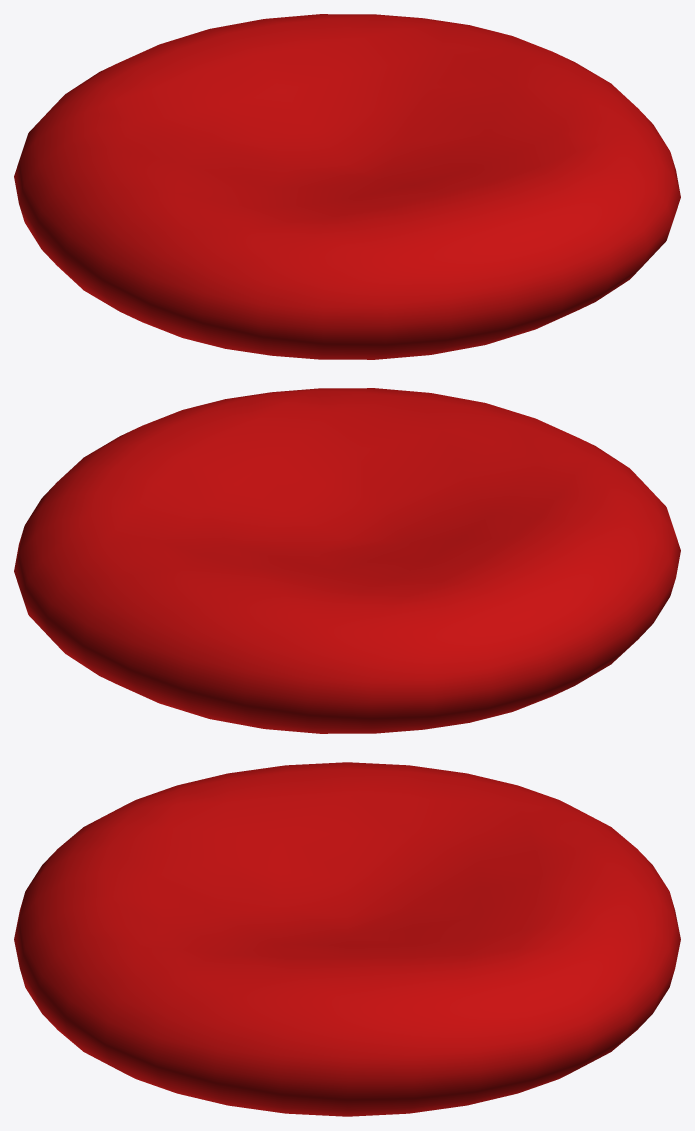
File: redbloodcell.fbx
3 renders of one model, top to bottom at view 1: azimuth 30°, elevation 25°; view 2: azimuth 150°, elevation 25°; view 3: azimuth 270°, elevation 25°, orthographic. The views are drawn at different scales.
Visible parts, largest first — view 1: pCube1; view 2: pCube1; view 3: pCube1.
Part boxes in pixels (box(x1,y1,x2,y2)): pCube1: box(14, 14, 680, 359); pCube1: box(14, 388, 680, 733); pCube1: box(14, 762, 680, 1116).
Size of the model in its own units: 5.1 by 1.16 by 5.1.
1 material, 1 textured.
